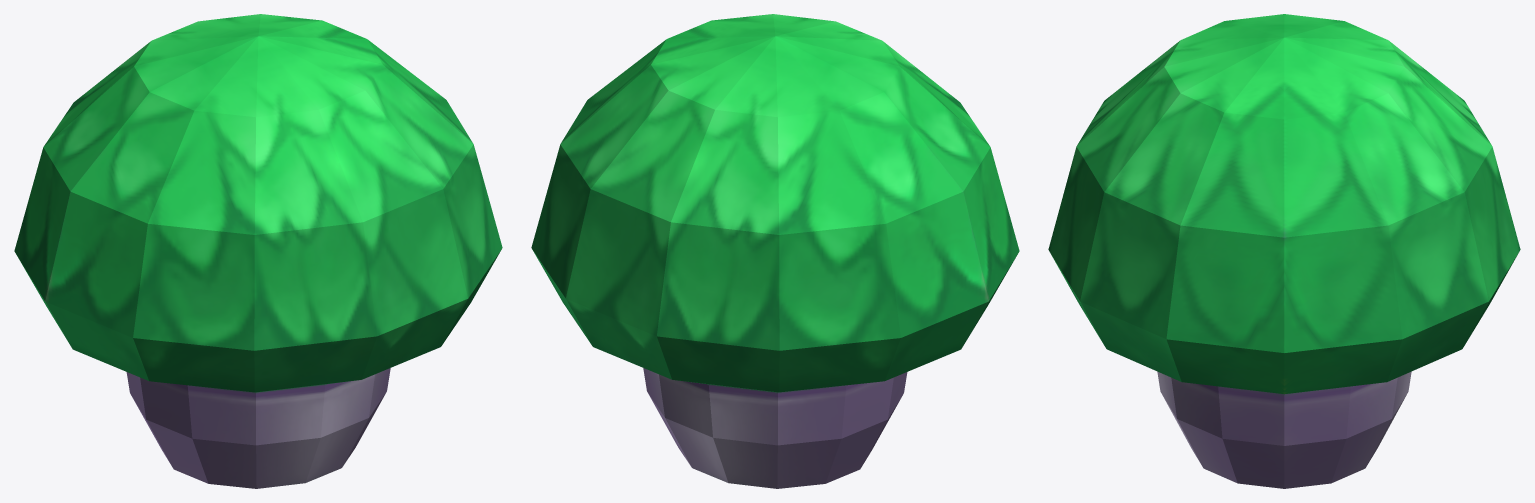
Rendered from Ceshichangji_ZhiWui_01.FBX.
3 views of the same model, side by side, from view 1: azimuth 30°, elevation 25°; view 2: azimuth 150°, elevation 25°; view 3: azimuth 270°, elevation 25° (orthographic).
Parts seen in each view (by area): view 1: Object018; view 2: Object018; view 3: Object018.
Part boxes in pixels (box(x1,y1,x2,y2)): Object018: box(14, 14, 502, 488); Object018: box(531, 14, 1019, 488); Object018: box(1048, 14, 1520, 488).
Bounding box in the file's own units: 297 × 274 × 286.
